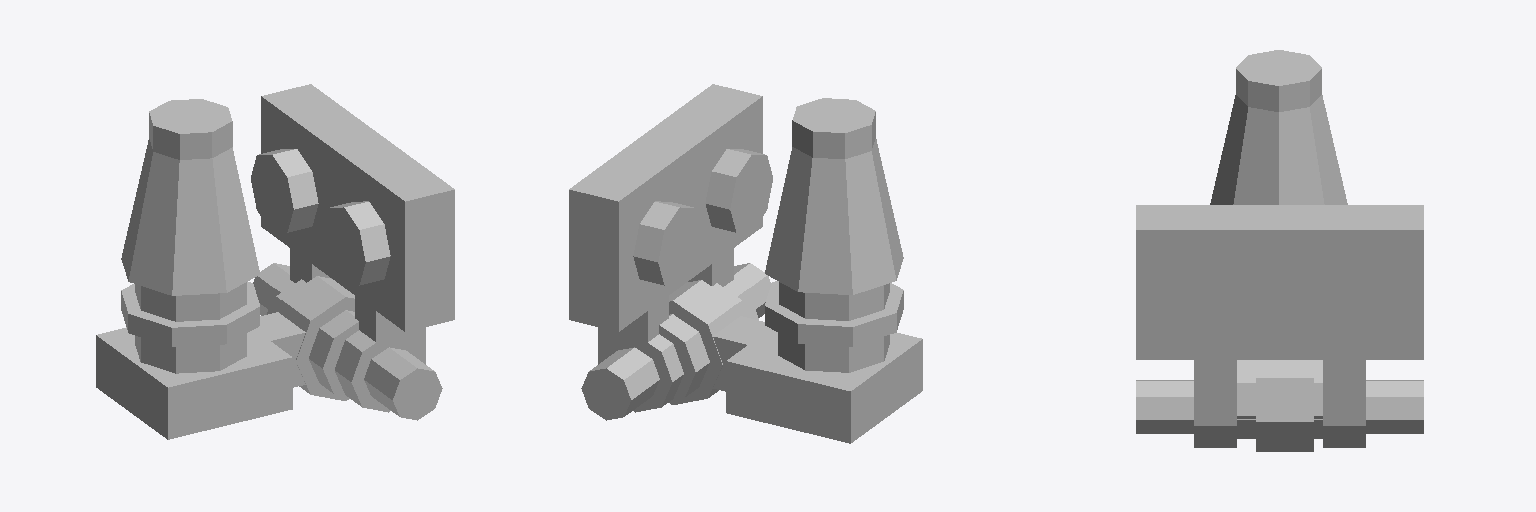
The model's file is Lamp.obj.
The picture shows the model from 3 angles: view 1: azimuth 30°, elevation 25°; view 2: azimuth 150°, elevation 25°; view 3: azimuth 270°, elevation 25°; orthographic projection.
Parts seen in each view (by area): view 1: Mesh_0054_Mesh_0054Mesh, Mesh_0151.001_Mesh_0151Mesh.001, Mesh_0053_Mesh_0053Mesh, Mesh_0151_Mesh_0151Mesh; view 2: Mesh_0054_Mesh_0054Mesh, Mesh_0151.001_Mesh_0151Mesh.001, Mesh_0053_Mesh_0053Mesh, Mesh_0151_Mesh_0151Mesh; view 3: Mesh_0054_Mesh_0054Mesh, Mesh_0151.001_Mesh_0151Mesh.001, Mesh_0053_Mesh_0053Mesh.
Part boxes in pixels (x1,y1,x2,y2): Mesh_0054_Mesh_0054Mesh: (251,84,454,420); Mesh_0151.001_Mesh_0151Mesh.001: (121,99,259,321); Mesh_0053_Mesh_0053Mesh: (96,276,358,439); Mesh_0151_Mesh_0151Mesh: (121,282,259,373); Mesh_0054_Mesh_0054Mesh: (569,84,772,420); Mesh_0151.001_Mesh_0151Mesh.001: (765,98,903,320); Mesh_0053_Mesh_0053Mesh: (659,280,922,443); Mesh_0151_Mesh_0151Mesh: (765,281,903,372); Mesh_0054_Mesh_0054Mesh: (1136,205,1423,447); Mesh_0151.001_Mesh_0151Mesh.001: (1210,50,1347,204); Mesh_0053_Mesh_0053Mesh: (1237,360,1322,451).
Bounding box in the file's own units: 0.1564 × 0.182 × 0.1524.